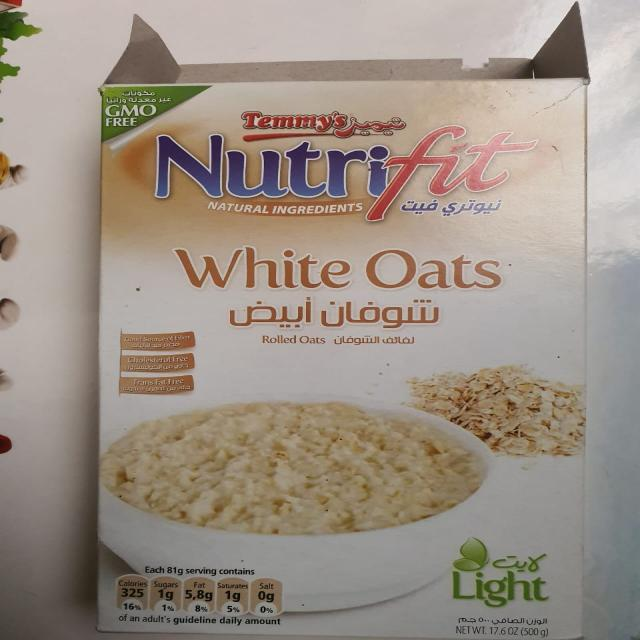cardboard: (90, 1, 588, 640)
